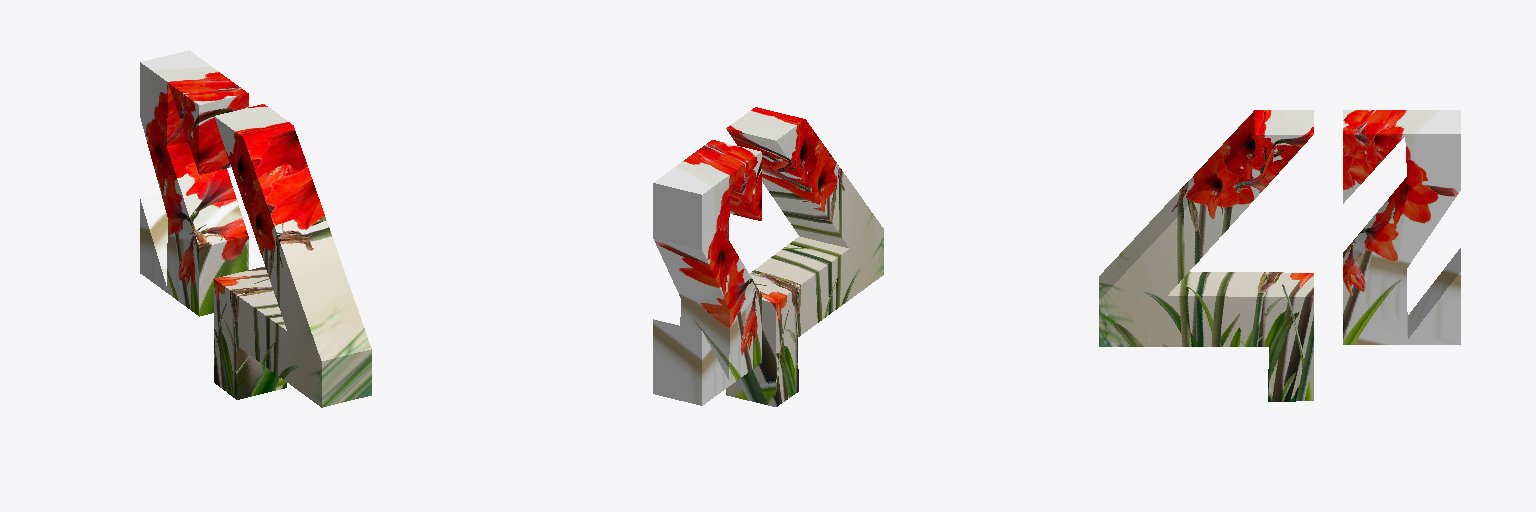
3 views of the same model, side by side, from view 1: azimuth 30°, elevation 25°; view 2: azimuth 150°, elevation 25°; view 3: azimuth 270°, elevation 25° (orthographic).
Parts seen in each view (by area): view 1: Cube.001; view 2: Cube.001; view 3: Cube.001.
Boxes of the visible parts, x1,y1,x2,y2 form: Cube.001: [140, 50, 371, 407]; Cube.001: [653, 107, 883, 406]; Cube.001: [1099, 110, 1460, 401].
Bounding box in the file's own units: 0.4599 × 2.34 × 2.88.
Materials: 1 (1 with a texture image).